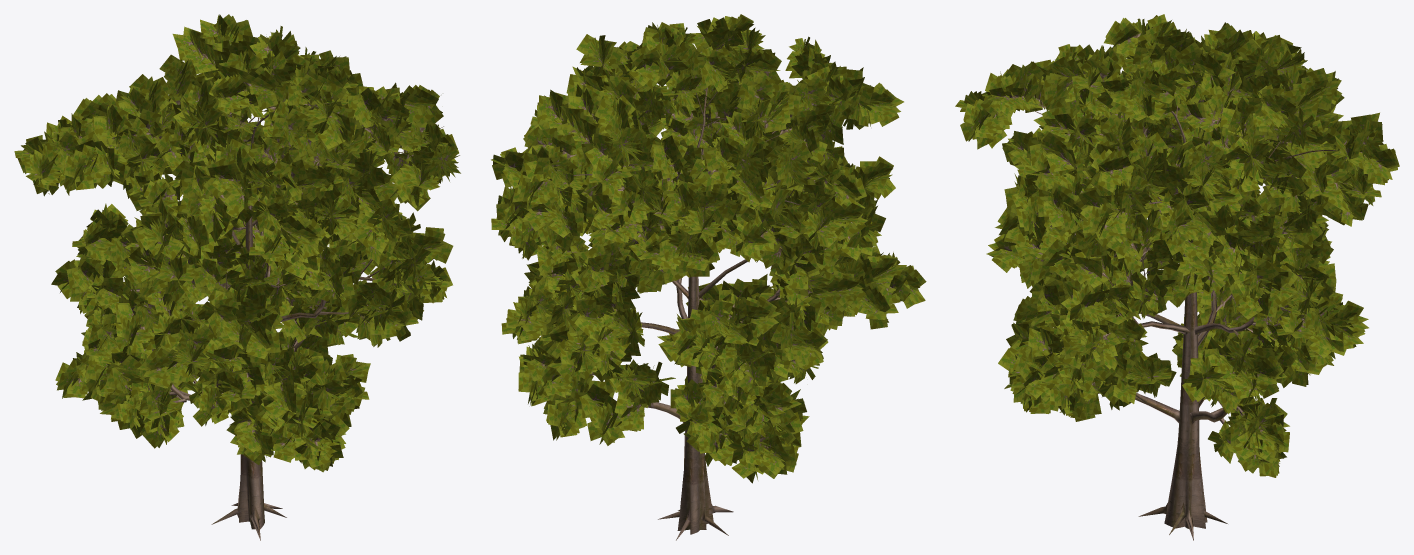
The model's file is maple-green.gltf.
The picture shows the model from 3 angles, left to right: view 1: azimuth 30°, elevation 25°; view 2: azimuth 150°, elevation 25°; view 3: azimuth 270°, elevation 25°; orthographic projection. The views are drawn at different scales.
Parts seen in each view (by area): view 1: Sugar maple Green; view 2: Sugar maple Green; view 3: Sugar maple Green.
Boxes of the visible parts, <box> form: Sugar maple Green: <box>14,14,460,540</box>; Sugar maple Green: <box>491,14,926,540</box>; Sugar maple Green: <box>955,14,1399,540</box>.
Size of the model in its own units: 756 by 953 by 780.
2 materials, 2 textured.
